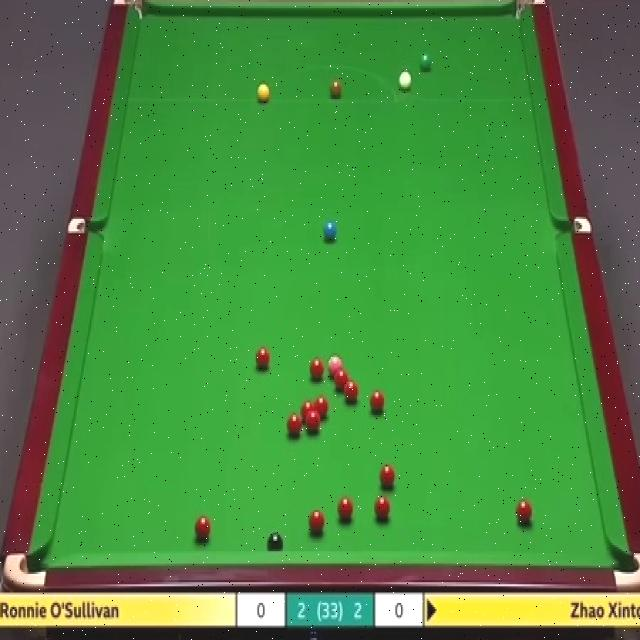black-ball: (267, 530, 284, 555)
blue-ball: (324, 222, 337, 242)
brown-ball: (329, 80, 341, 100)
green-ball: (417, 51, 433, 72)
pink-ball: (327, 353, 343, 376)
red-ball: (515, 499, 533, 527), (374, 494, 392, 522), (378, 463, 396, 490), (307, 510, 326, 535), (194, 514, 211, 540), (338, 494, 354, 521), (254, 345, 270, 371), (286, 412, 302, 437), (308, 356, 324, 381), (344, 381, 359, 407), (370, 389, 385, 414), (315, 395, 330, 418), (306, 408, 320, 432), (333, 369, 349, 389), (301, 400, 315, 418)
white-ball: (397, 68, 412, 91)
yellow-ball: (256, 80, 270, 103)
